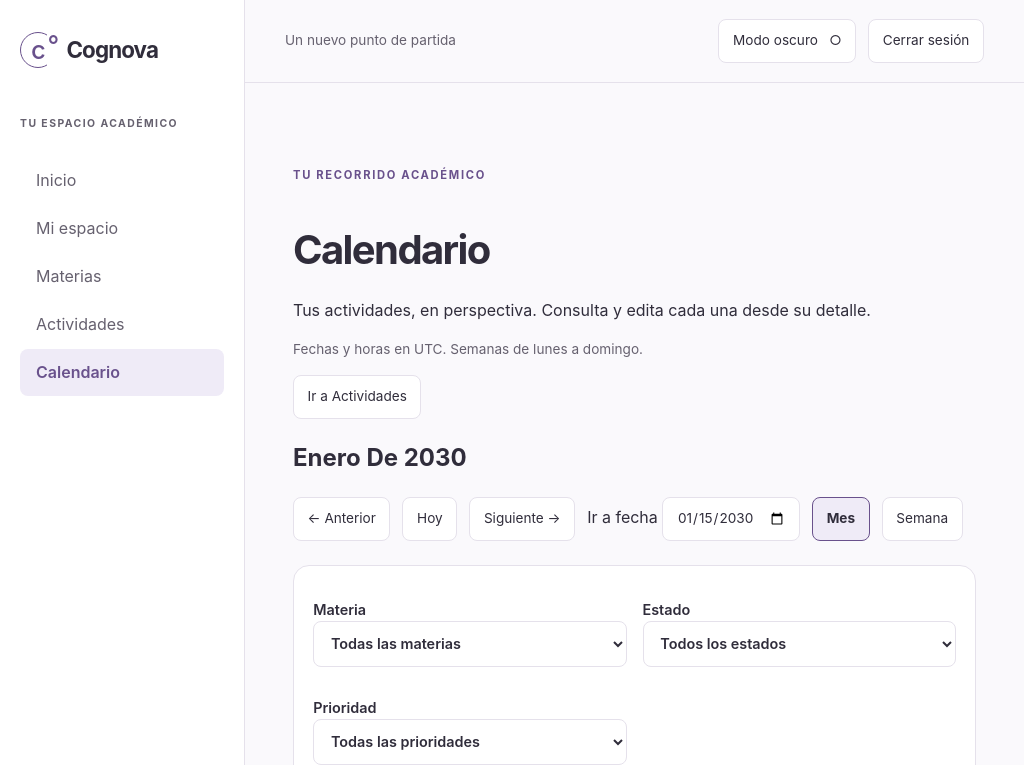
Test: Calendar protected screen › aborts stale requests on navigation and ignores late responses
This screenshot has width=1024, height=765.
Click the button with aria-label "Periodo siguiente" at [522, 519], box [469, 497, 575, 541]
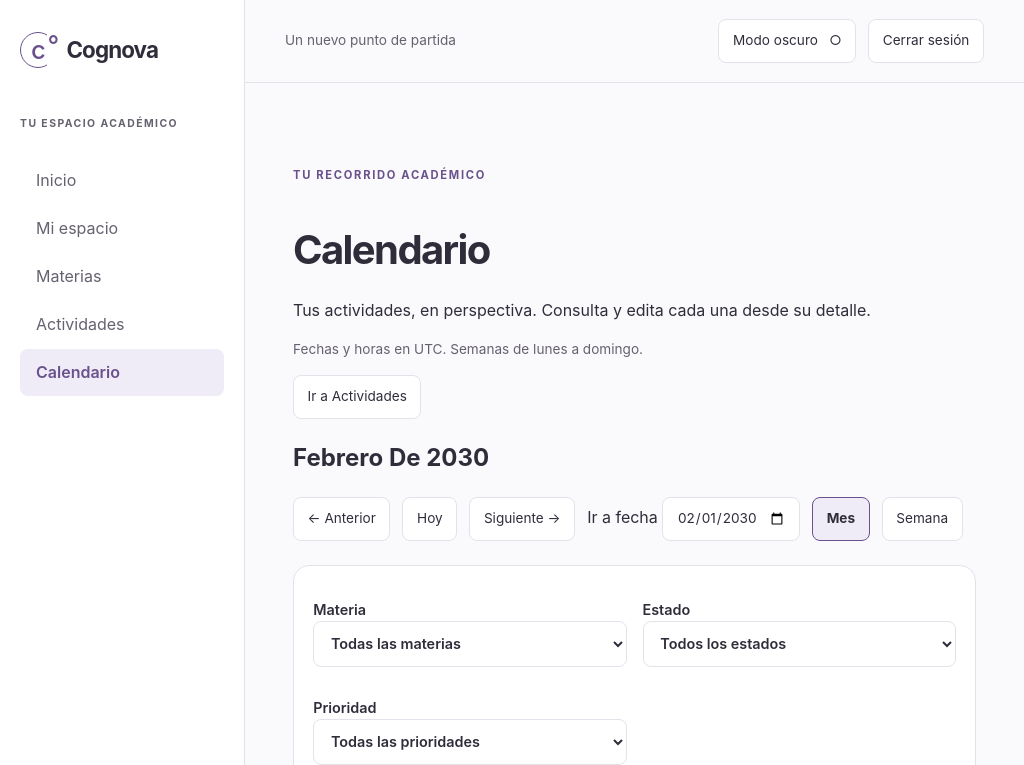
Check: the heading "febrero de 2030" is shown, box [293, 442, 489, 472]
